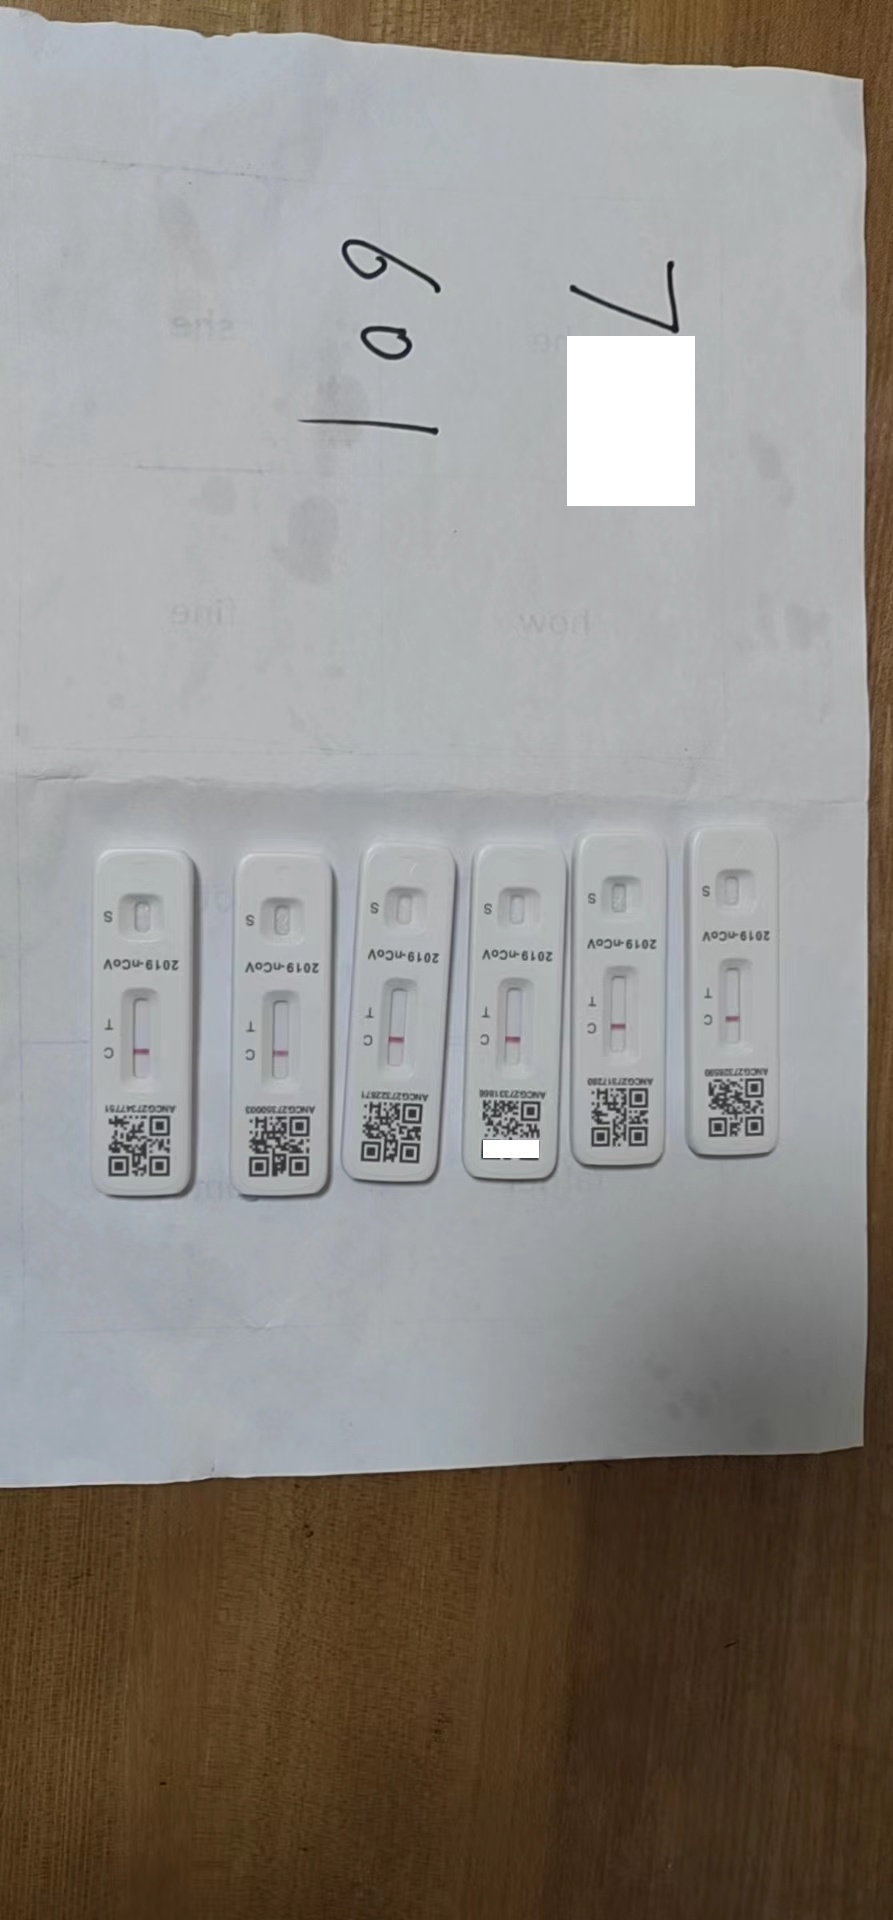negative: (122, 991, 167, 1089), (496, 973, 534, 1082), (265, 993, 303, 1095), (382, 975, 414, 1082), (606, 962, 632, 1069), (722, 956, 744, 1056)
